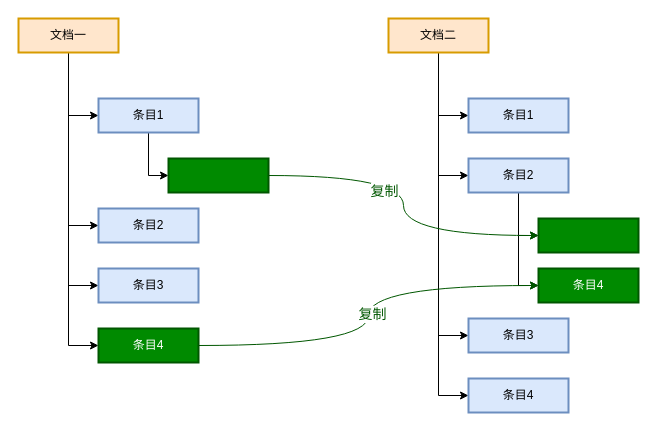
Image size: 656x430. Some labels were removed from this diagram. Each missing label, with the box of its shape:
条目1-1: (167, 157, 269, 193)
条目2-1: (537, 217, 639, 253)
